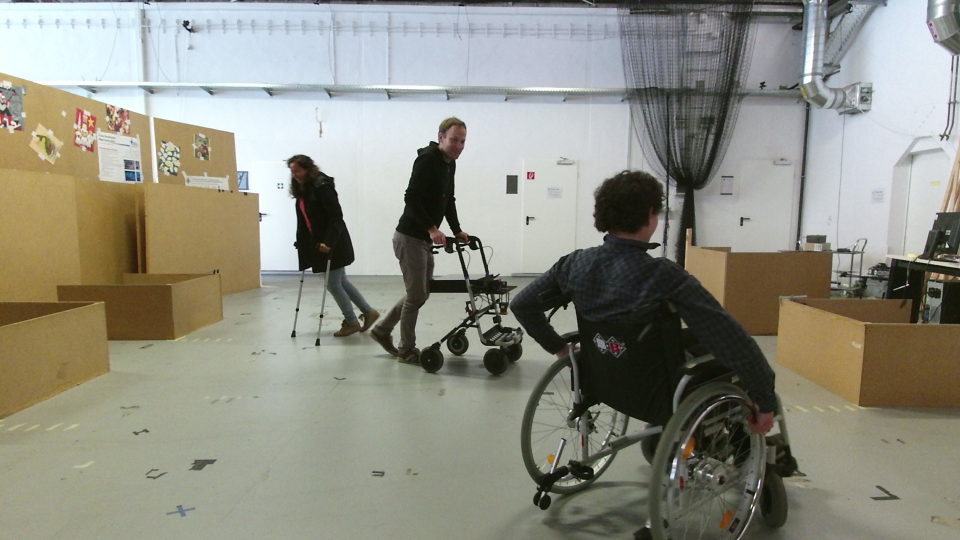crutches: (284, 151, 379, 342)
wheelchair: (507, 161, 800, 540)
